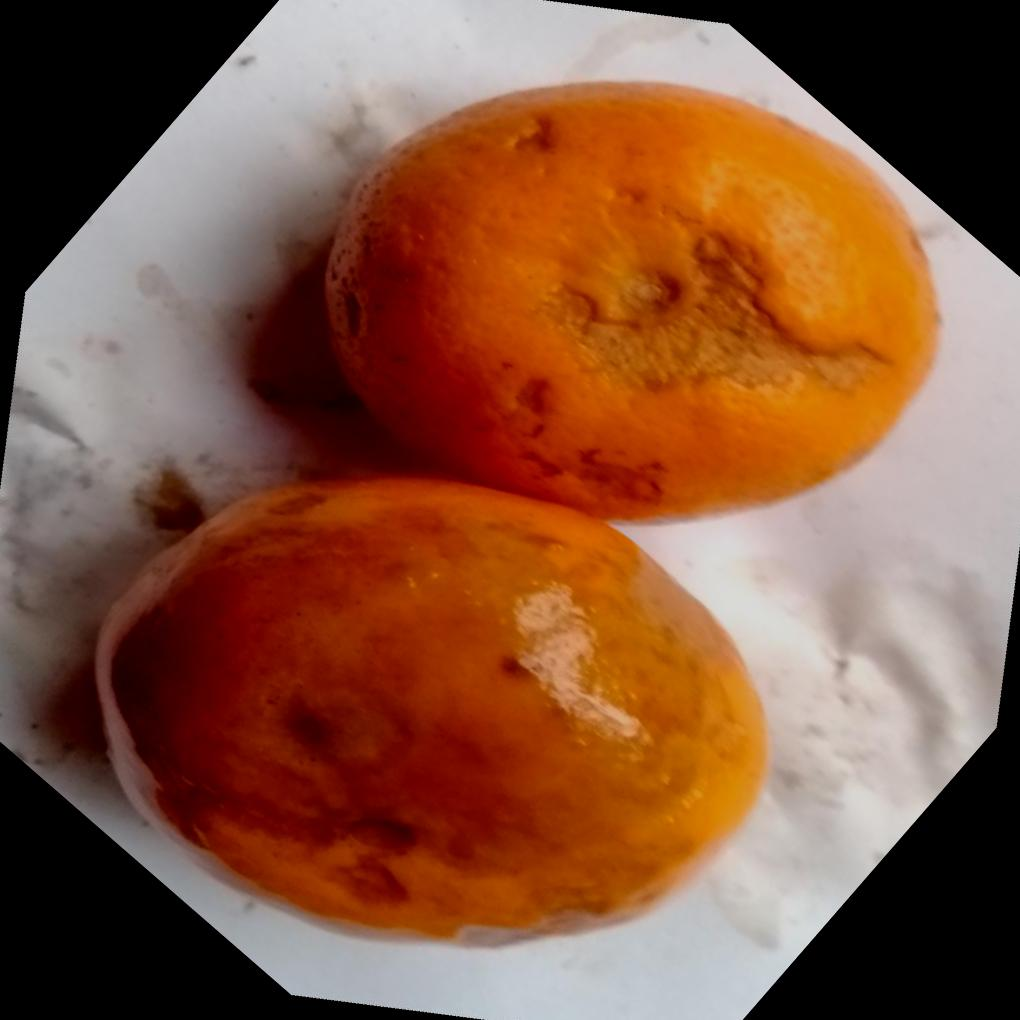FreshOrange: (89, 75, 942, 949)
